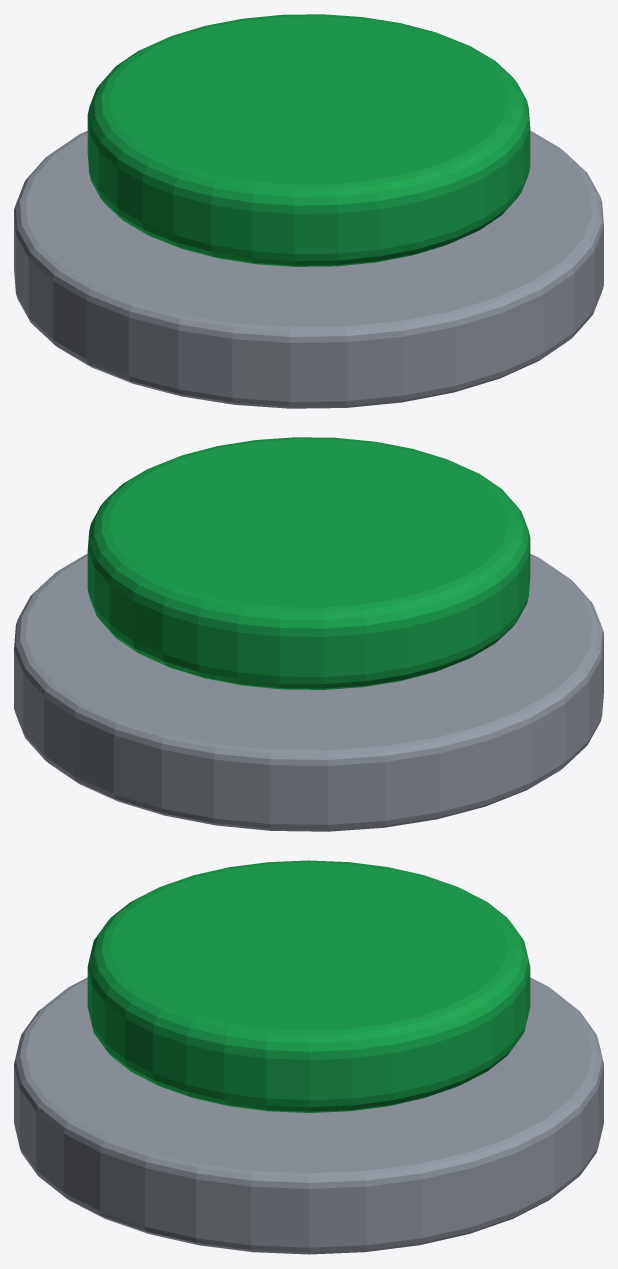
Rendered from botonMetalico.fbx.
3 renders of one model, top to bottom at view 1: azimuth 30°, elevation 25°; view 2: azimuth 150°, elevation 25°; view 3: azimuth 270°, elevation 25°, orthographic.
Visible parts, largest first — view 1: Base_Metalica, Boton_START_Verde; view 2: Base_Metalica, Boton_START_Verde; view 3: Base_Metalica, Boton_START_Verde.
Part boxes in pixels (x1,y1,x2,y2): Base_Metalica: (14, 130, 603, 408); Boton_START_Verde: (87, 14, 530, 266); Base_Metalica: (14, 553, 603, 831); Boton_START_Verde: (87, 437, 530, 689); Base_Metalica: (14, 977, 603, 1254); Boton_START_Verde: (87, 860, 530, 1112).
Bounding box in the file's own units: 4 × 1.4 × 4.
